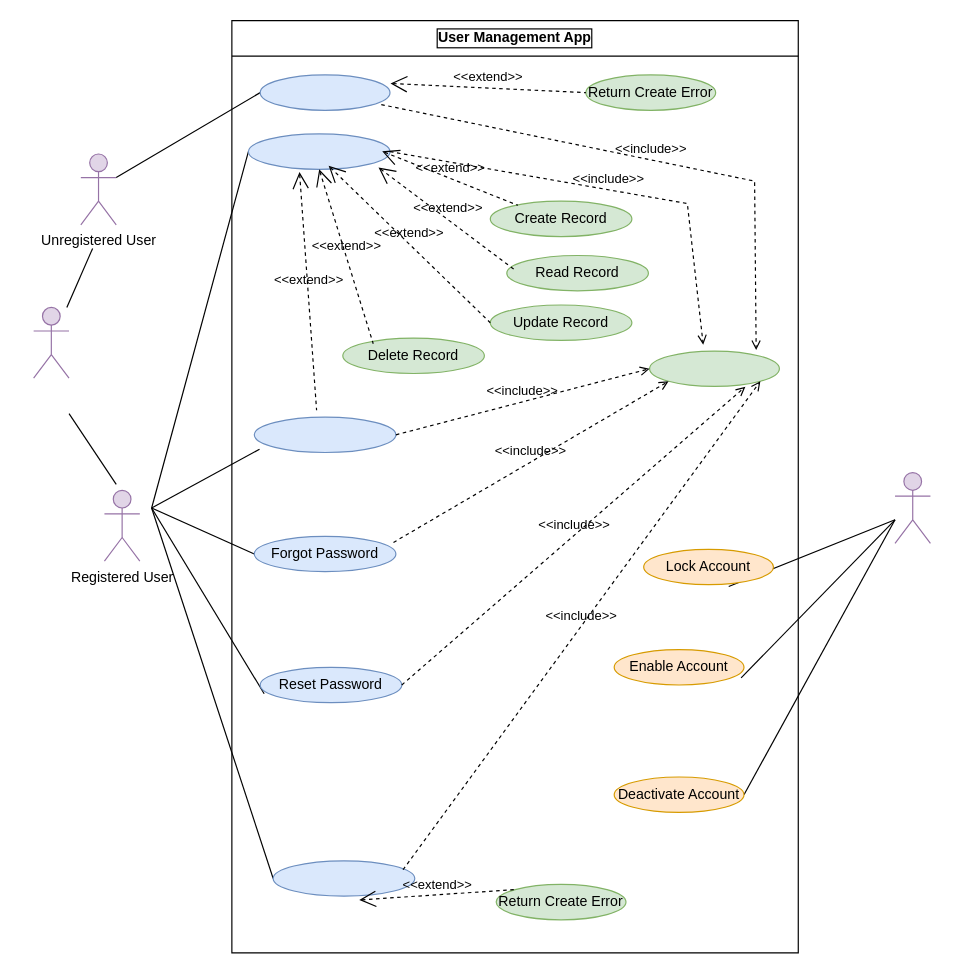
Image size: 953x973. Some labels were removed from this diagram. Here are the shapes that lost their labels. From the top down, the box of each, then its label:
(259, 74, 390, 110): Create Account
(247, 133, 390, 169): Log In
(32, 306, 69, 378): User
(648, 350, 779, 386): Verify Account
(253, 416, 396, 453): Log out
(894, 471, 930, 543): Admin
(272, 860, 415, 896): Delete Account
